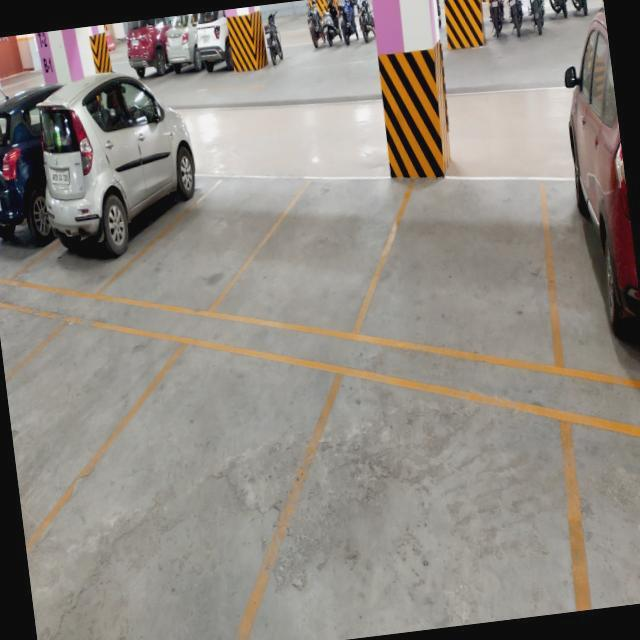car: (550, 173, 640, 363), (49, 122, 173, 257), (0, 124, 53, 255)
free: (286, 414, 587, 640), (52, 420, 286, 612), (386, 190, 544, 350), (265, 205, 383, 320), (5, 350, 138, 446), (563, 433, 640, 598), (151, 190, 258, 298)
